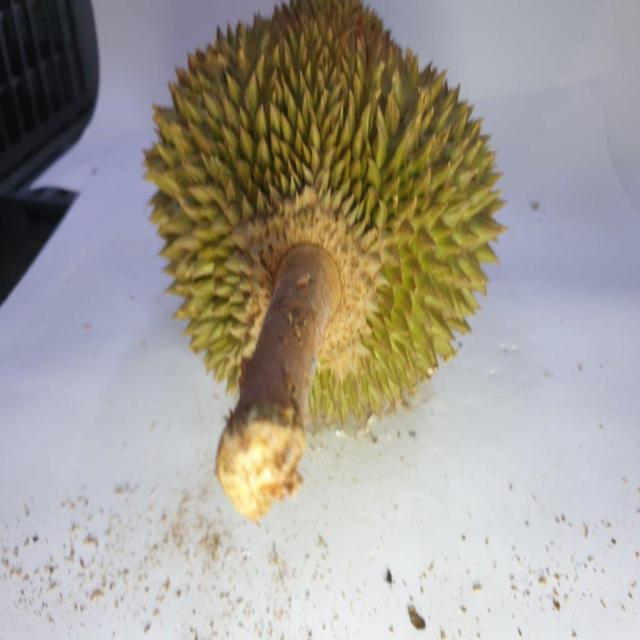immature: (139, 2, 510, 432)
